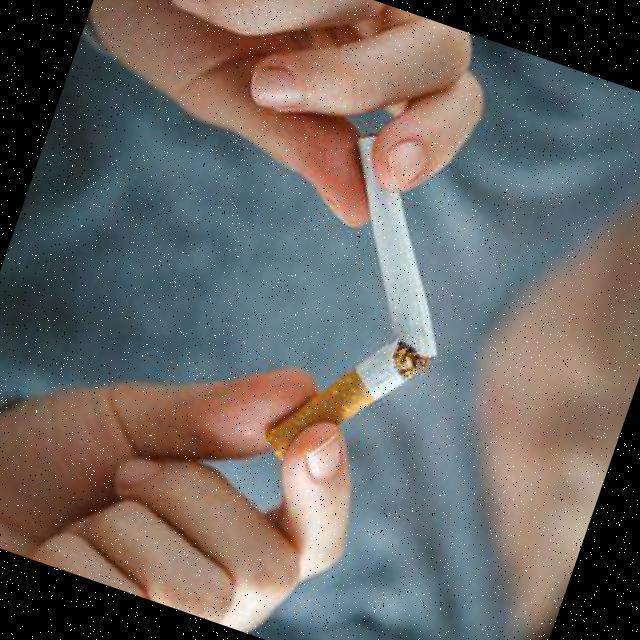cigarette: (243, 125, 504, 498)
